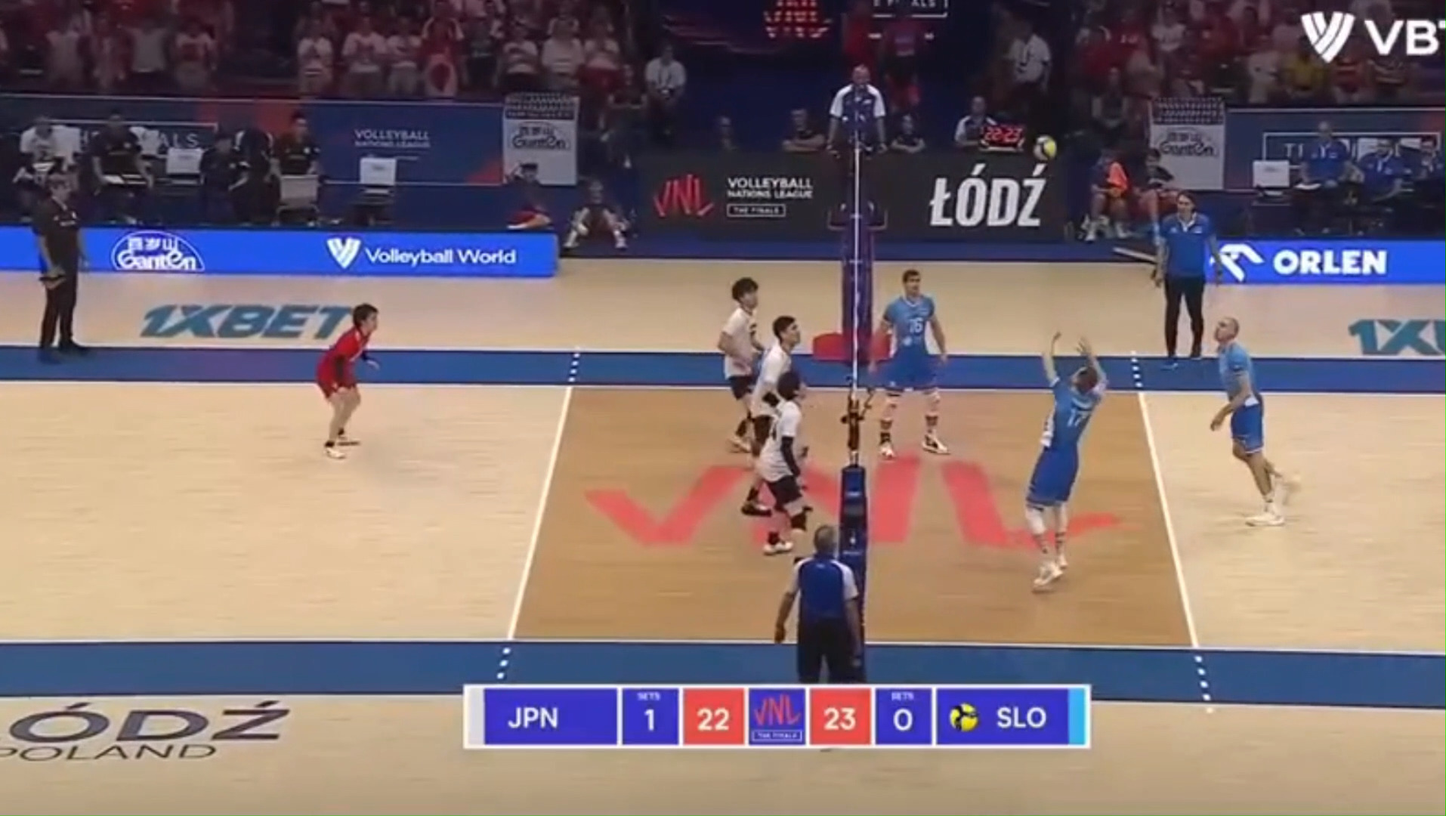ball: (1033, 134, 1057, 162)
player: (1024, 332, 1107, 590), (1210, 317, 1293, 526), (879, 269, 948, 459)
player 1: (755, 369, 808, 554), (316, 303, 378, 458), (717, 277, 762, 453), (749, 315, 799, 467), (740, 473, 771, 516)
referee: (774, 525, 862, 684), (1153, 193, 1219, 362), (827, 65, 886, 252), (32, 174, 88, 360)
